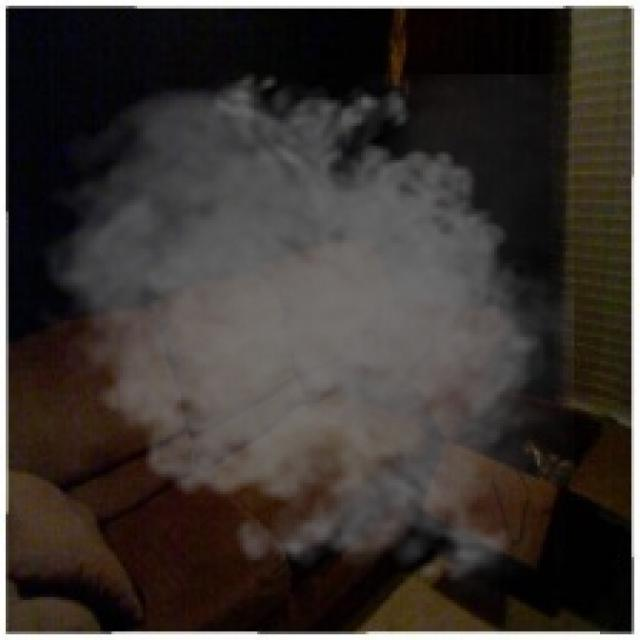Smoke: (22, 62, 574, 598)
